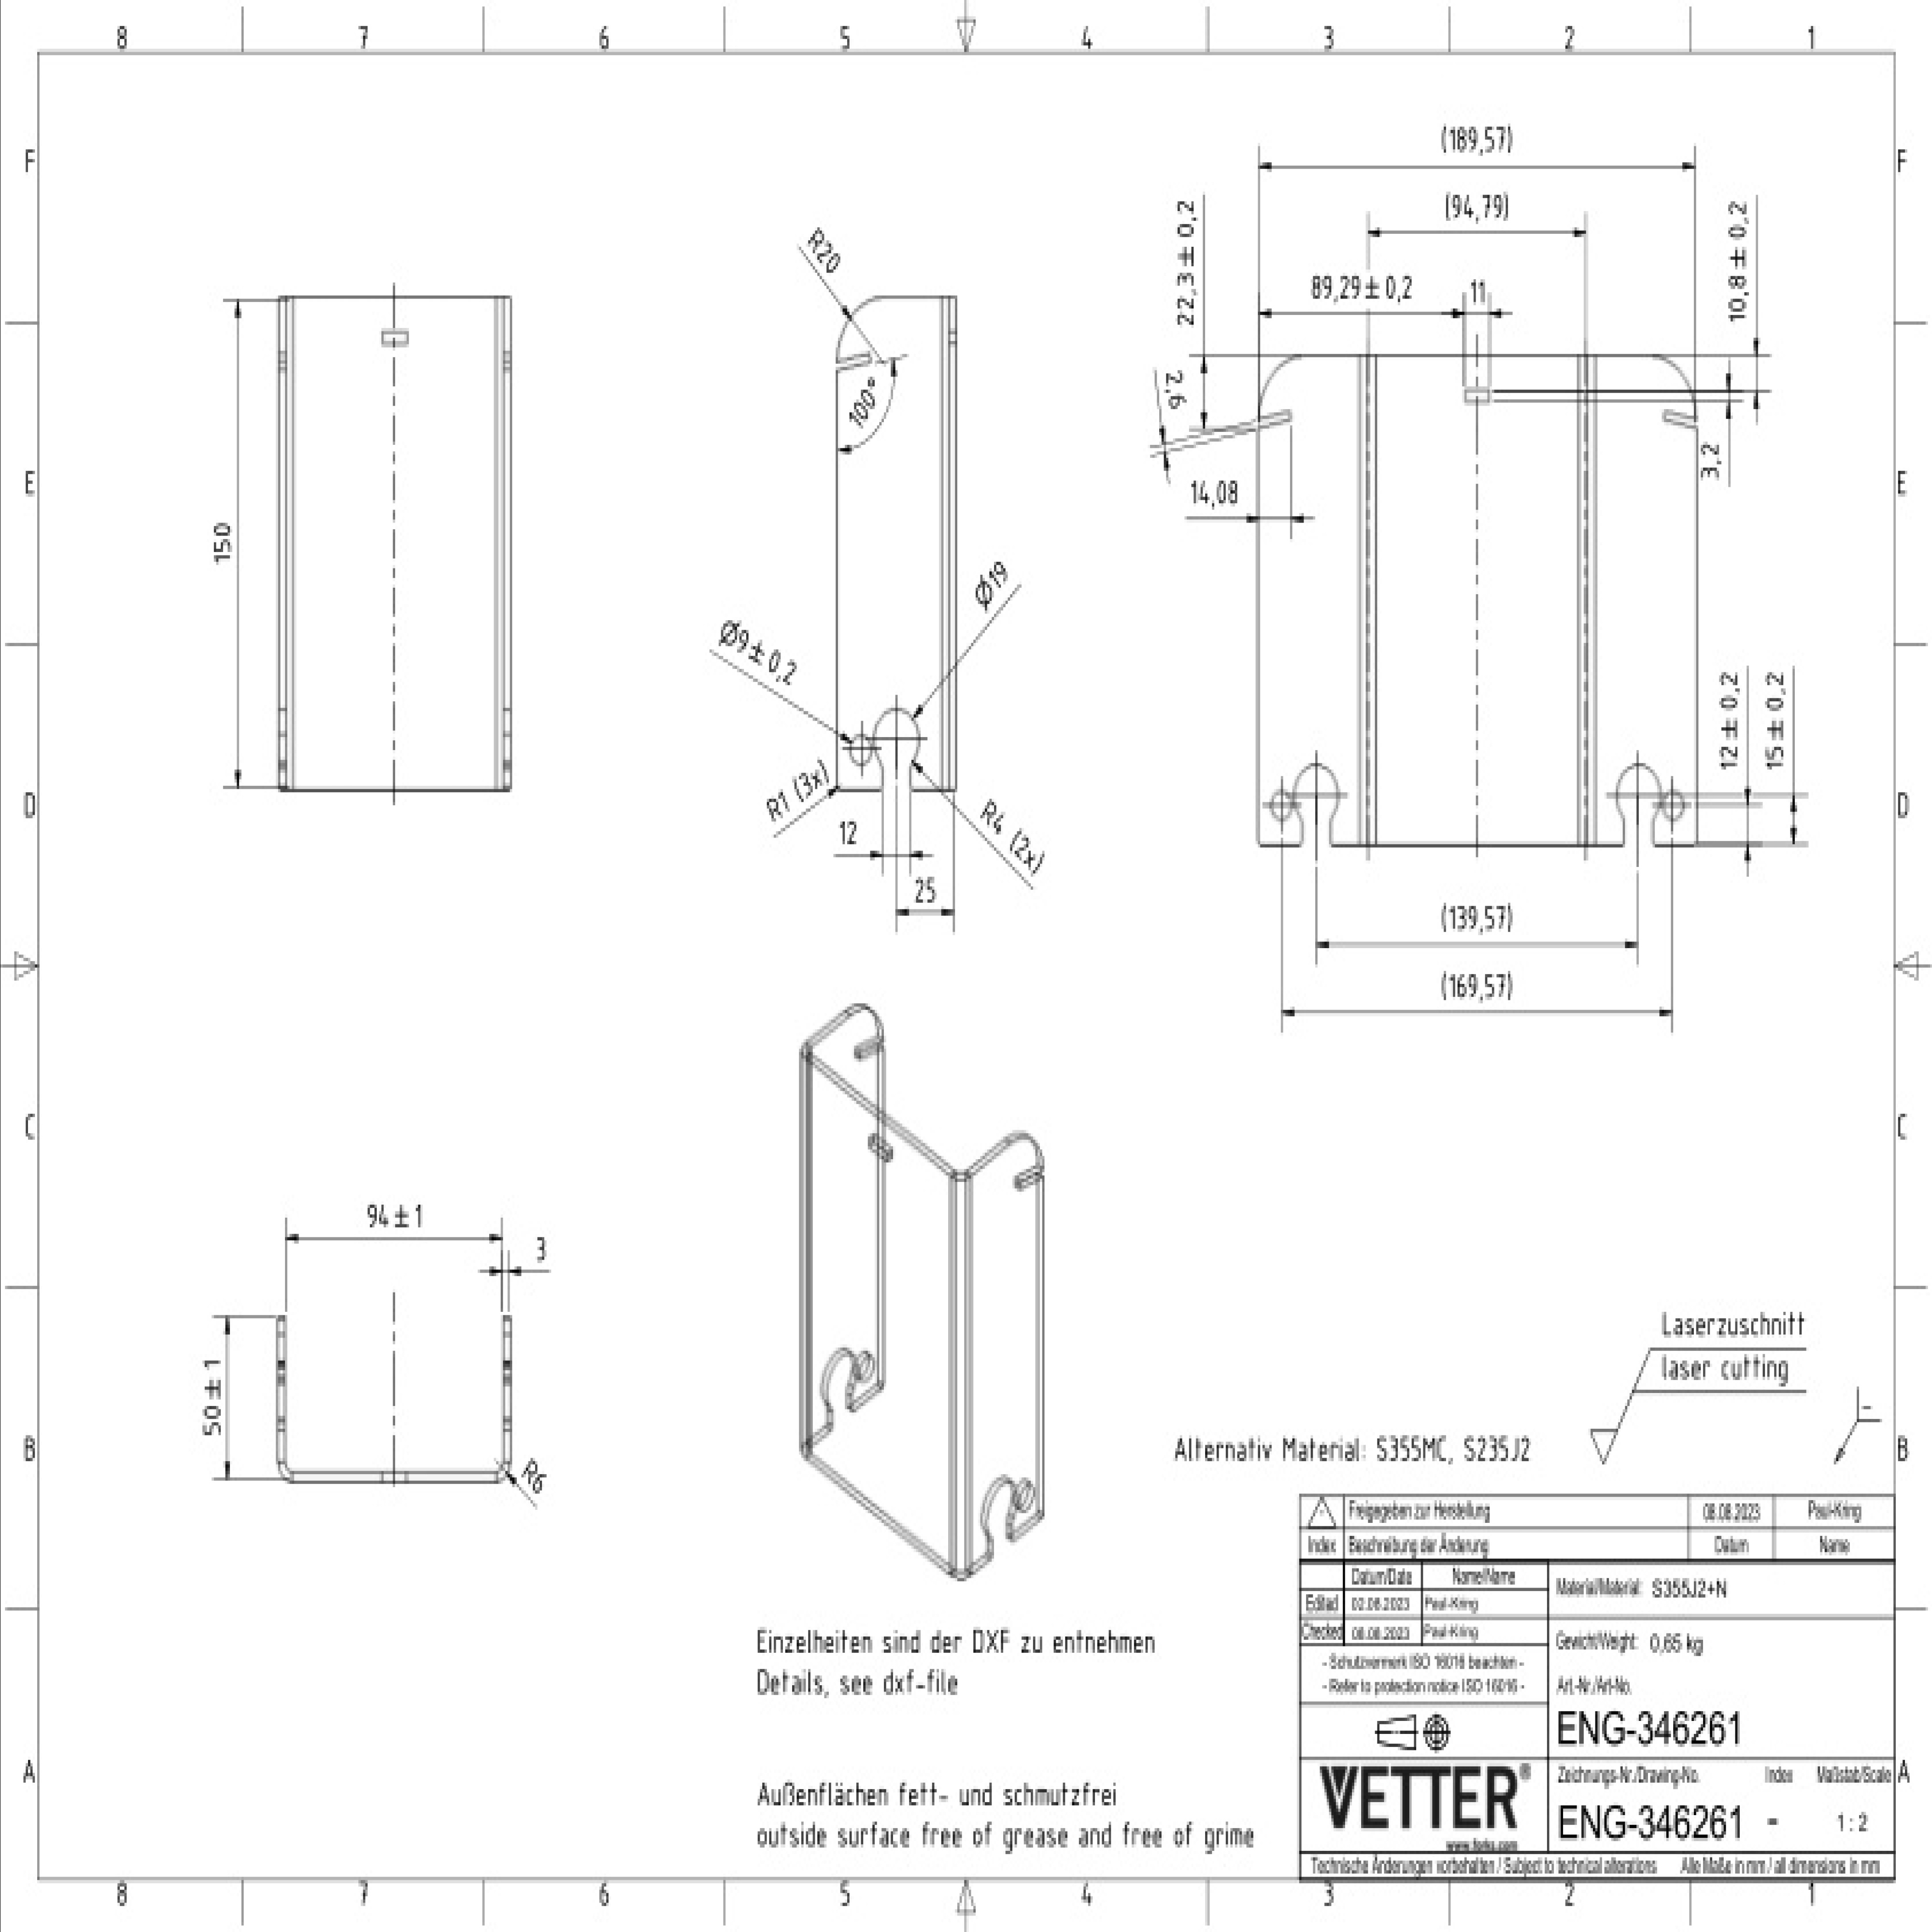InnerContour: (844, 731, 878, 771), (1016, 1472, 1042, 1522), (1269, 789, 1293, 823), (856, 1346, 876, 1387), (1665, 787, 1686, 823)
InnerContourAngular: (1460, 384, 1491, 405), (380, 329, 409, 345)
Notch: (1292, 759, 1341, 844), (1615, 759, 1663, 844), (869, 708, 920, 786), (975, 1470, 1021, 1557), (819, 1341, 860, 1435), (1658, 405, 1702, 437), (1249, 405, 1293, 430), (832, 349, 874, 373), (849, 1037, 890, 1062), (1014, 1162, 1046, 1191)
